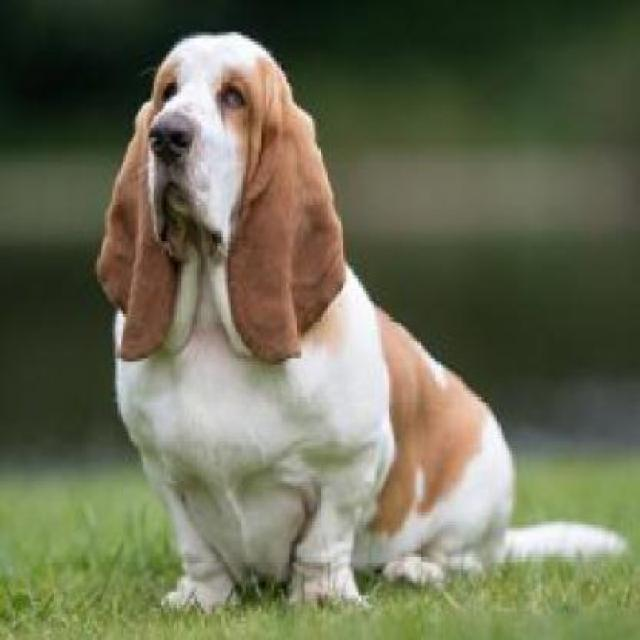Dog: (97, 26, 629, 612)
